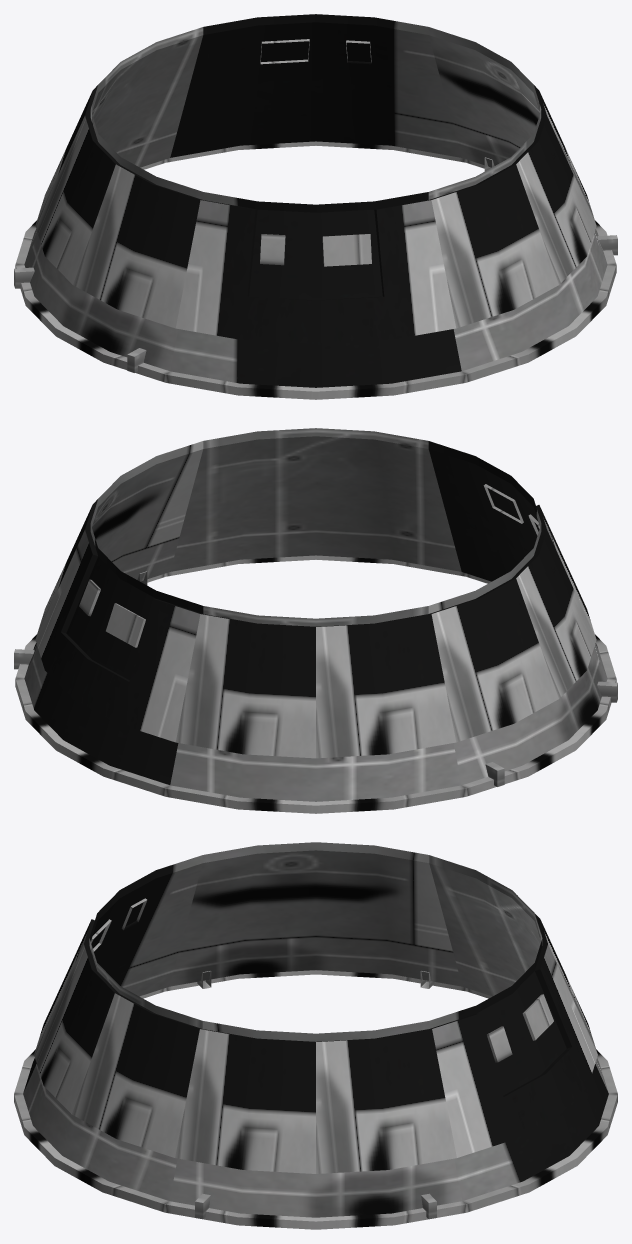
The model's file is big adapter.obj.
The picture shows the model from 3 angles, top to bottom: view 1: azimuth 30°, elevation 25°; view 2: azimuth 150°, elevation 25°; view 3: azimuth 270°, elevation 25°; orthographic projection.
Parts seen in each view (by area): view 1: 1; view 2: 1; view 3: 1.
Part boxes in pixels (left/top/right/bottom): 1: left=14, top=14, right=617, bottom=399; 1: left=14, top=428, right=617, bottom=813; 1: left=14, top=842, right=617, bottom=1229.
Bounding box in the file's own units: 2.5 × 0.75 × 2.5.
